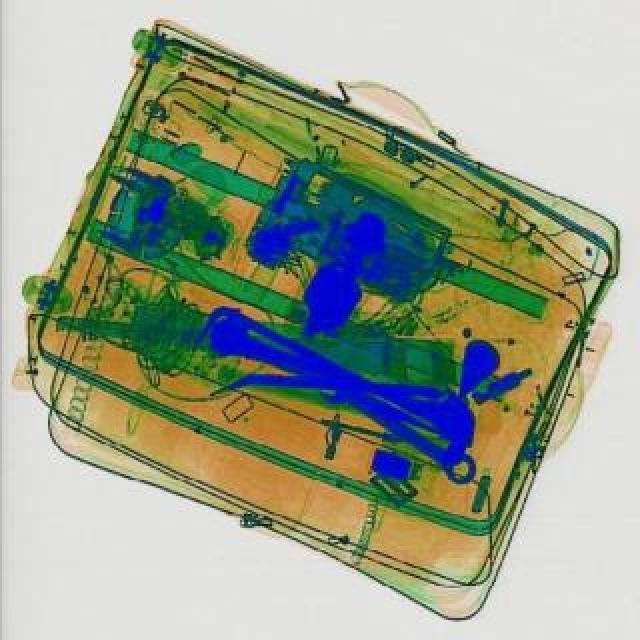scissors: (316, 374, 486, 494)
